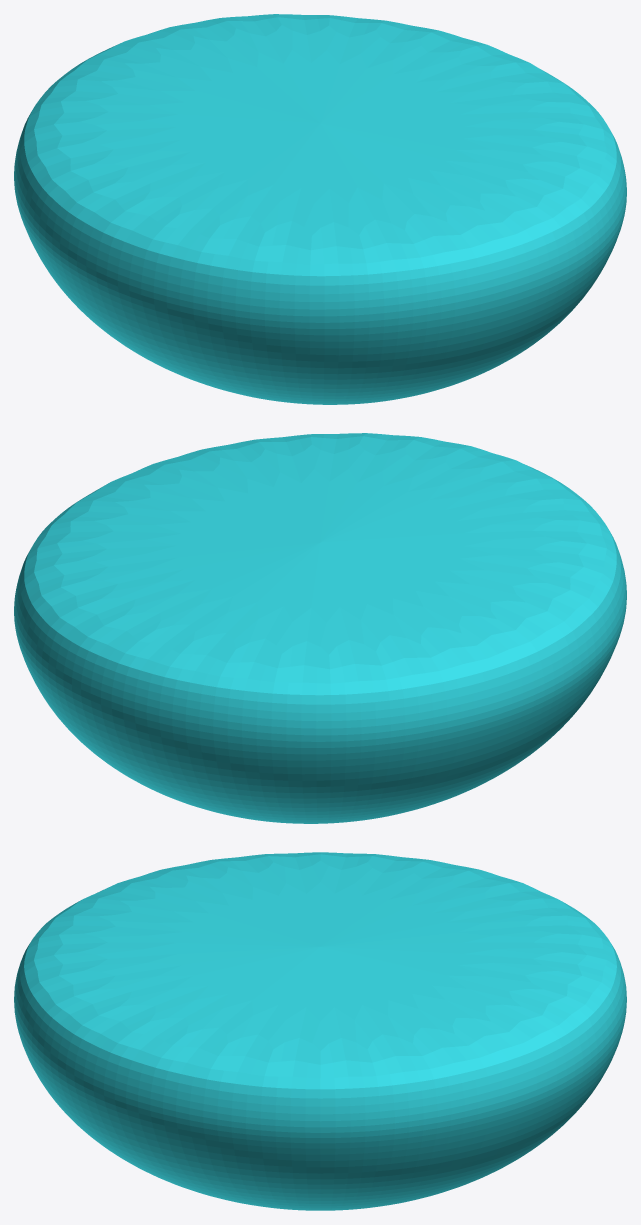
The model's file is スライム.fbx.
3 renders of one model, top to bottom at view 1: azimuth 30°, elevation 25°; view 2: azimuth 150°, elevation 25°; view 3: azimuth 270°, elevation 25°, orthographic. The views are drawn at different scales.
Parts seen in each view (by area): view 1: 球; view 2: 球; view 3: 球.
Boxes of the visible parts, left/top/right/bottom form: 球: left=14, top=14, right=626, bottom=404; 球: left=14, top=433, right=626, bottom=823; 球: left=14, top=852, right=626, bottom=1210.
Size of the model in its own units: 283 by 124 by 303.
